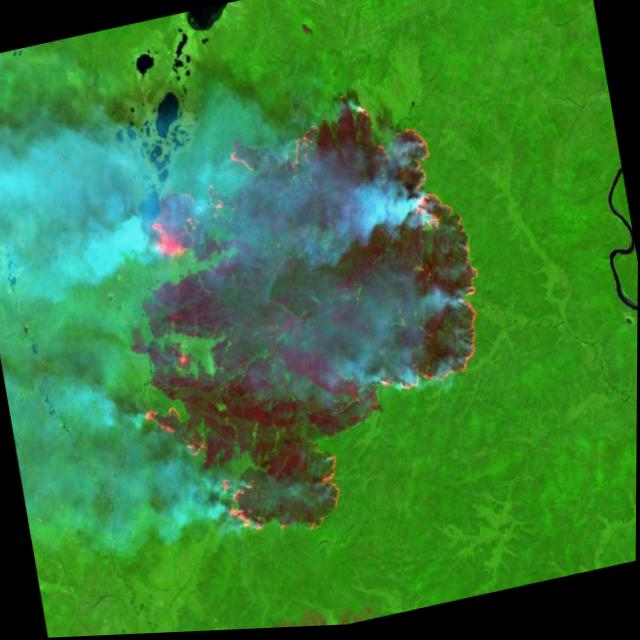fire: (93, 74, 515, 566)
